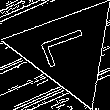L_E: (37, 27, 98, 73)
